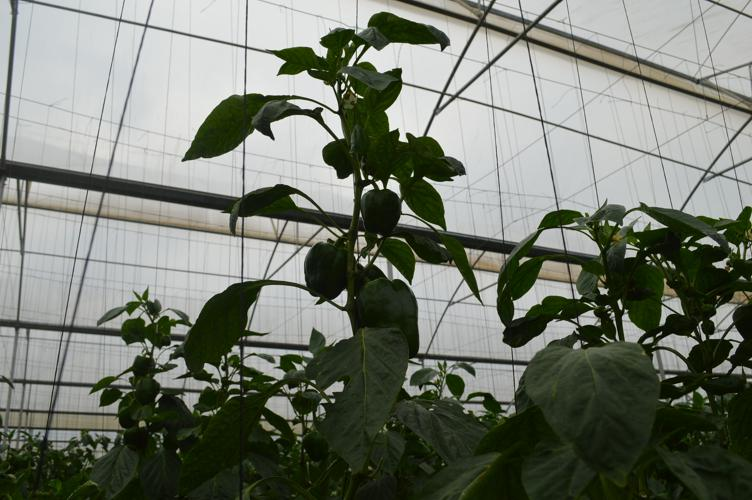BellPepper: (348, 271, 426, 356), (290, 230, 359, 298), (352, 176, 409, 238)
